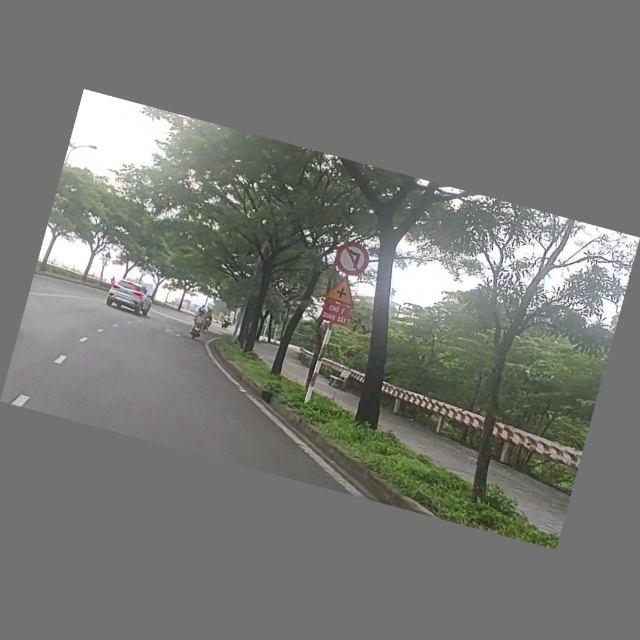P.123a: (327, 235, 376, 282)
W.205a: (322, 272, 365, 309)
